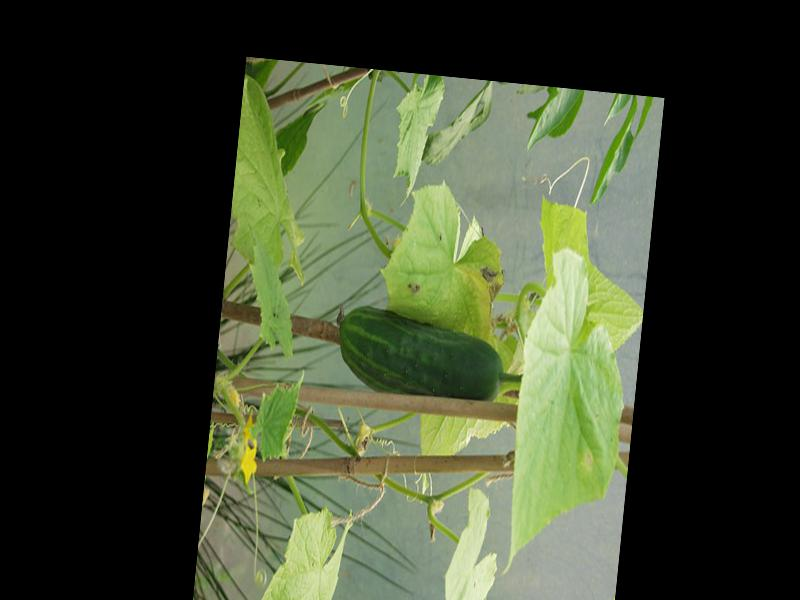Cucumber: (330, 301, 508, 404)
